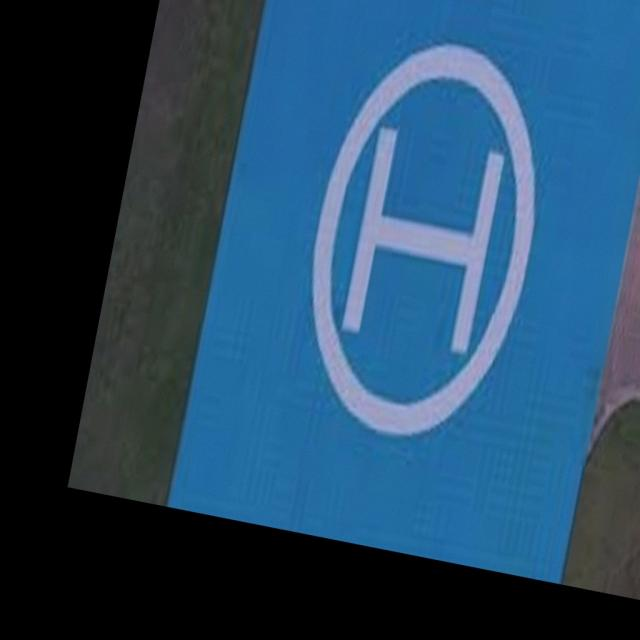helipad: (304, 36, 542, 442)
